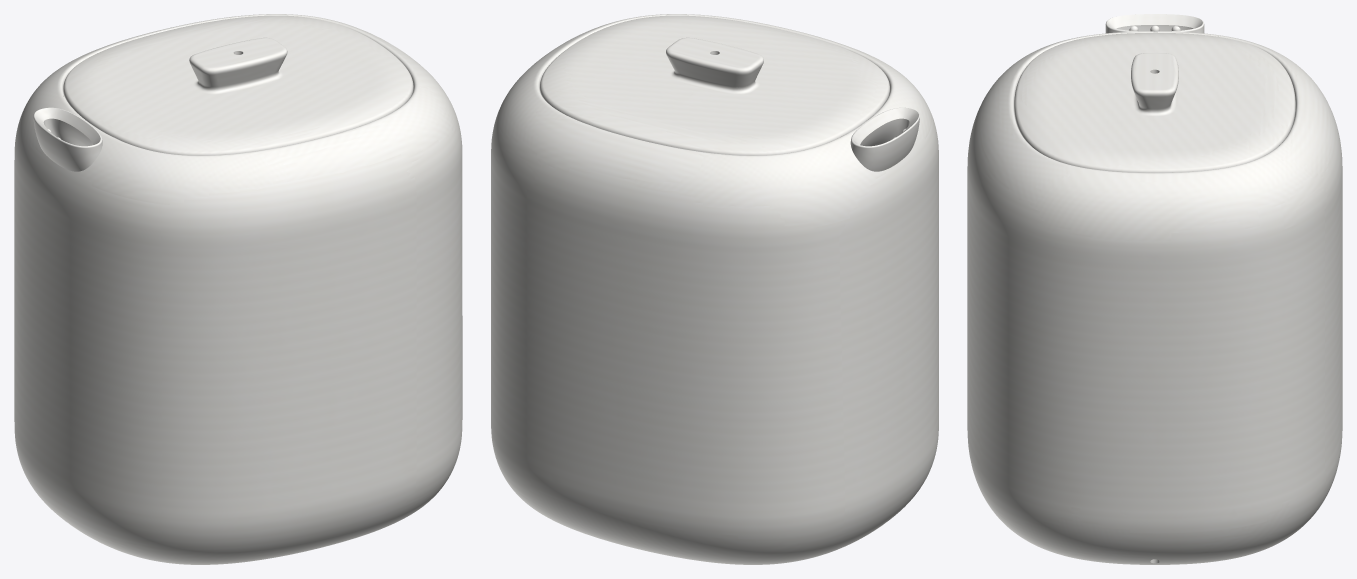
Rendered from teapot-with-lid.glb.
3 renders of one model, left to right at view 1: azimuth 30°, elevation 25°; view 2: azimuth 150°, elevation 25°; view 3: azimuth 270°, elevation 25°, orthographic. The views are drawn at different scales.
Size of the model in its own units: 0.09 by 0.1008 by 0.08.
1 material, 1 textured.
